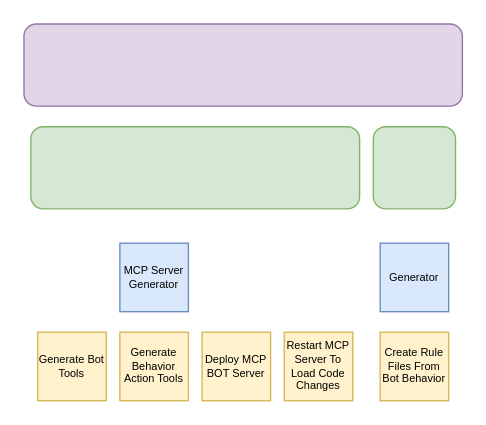
Image size: 486x425. Some labels were removed from this diagram. The shapes that lost their labels are listed below. From the top down, each one's centre as x and y in pixels, then its label:
point 242,64: Build Agile Bots
point 194,167: Generate MCP Tools
point 414,167: Generate CLI
